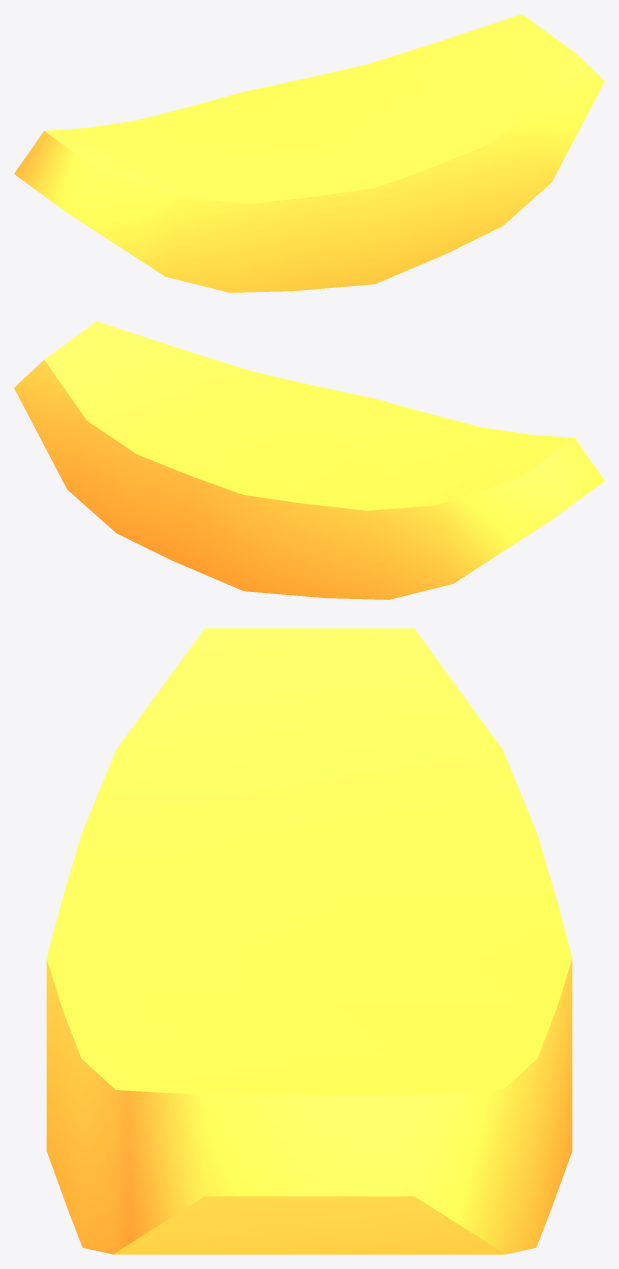
File: gold_guard_015.glb
3 views of the same model, one above another, from view 1: azimuth 30°, elevation 25°; view 2: azimuth 150°, elevation 25°; view 3: azimuth 270°, elevation 25° (orthographic). The views are drawn at different scales.
Parts seen in each view (by area): view 1: gold_guard_015; view 2: gold_guard_015; view 3: gold_guard_015.
Part boxes in pixels (<box>): gold_guard_015: <box>14,14,604,292</box>; gold_guard_015: <box>14,321,604,599</box>; gold_guard_015: <box>46,628,572,1254</box>.
Size of the model in its own units: 6.9 by 1.77 by 2.92.
1 material, 1 textured.
